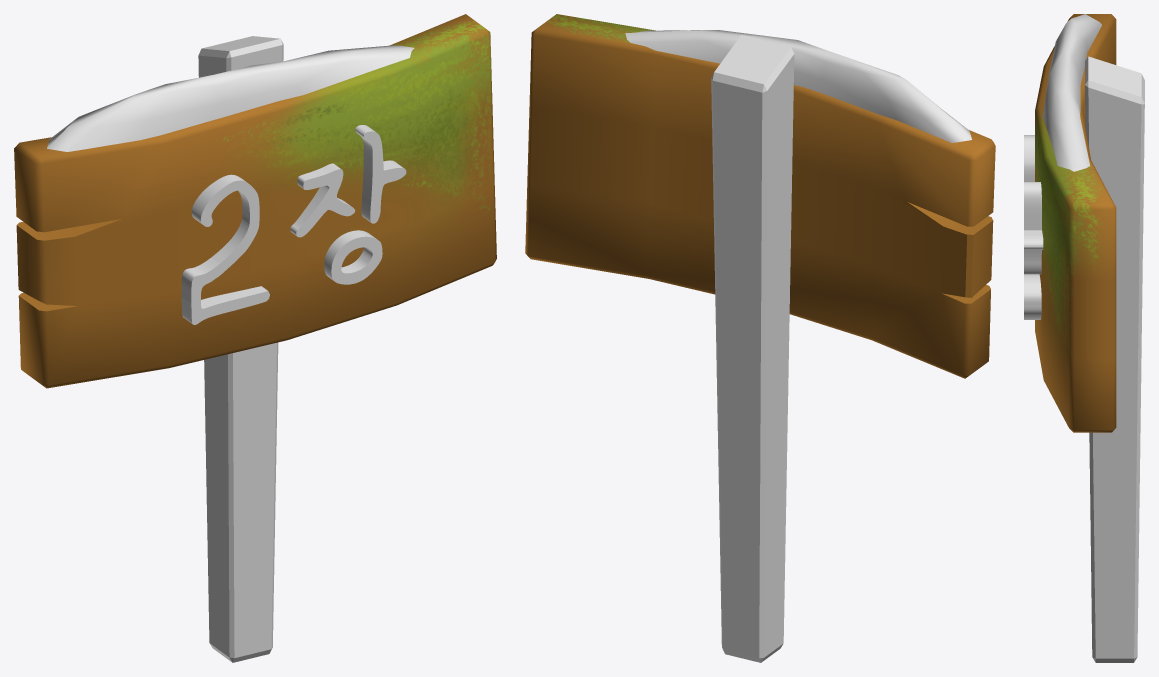
The model's file is 2Panel.FBX.
3 views of the same model, side by side, from view 1: azimuth 30°, elevation 25°; view 2: azimuth 150°, elevation 25°; view 3: azimuth 270°, elevation 25° (orthographic). The views are drawn at different scales.
Visible parts, largest first — view 1: Box050, Box049, Sand, 장001, number001; view 2: Box050, Box049, Sand; view 3: Box049, Box050, Sand, 장001, number001.
Part boxes in pixels (x1=…): Box050: x1=14, y1=14, x2=496, y2=388; Box049: x1=198, y1=36, x2=283, y2=662; Sand: x1=47, y1=45, x2=414, y2=151; 장001: x1=290, y1=125, x2=406, y2=284; number001: x1=181, y1=174, x2=269, y2=324; Box050: x1=525, y1=14, x2=995, y2=378; Box049: x1=711, y1=35, x2=794, y2=662; Sand: x1=625, y1=30, x2=971, y2=142; Box049: x1=1085, y1=56, x2=1144, y2=662; Box050: x1=1035, y1=14, x2=1116, y2=432; Sand: x1=1043, y1=14, x2=1101, y2=171; 장001: x1=1024, y1=182, x2=1043, y2=319; number001: x1=1024, y1=135, x2=1034, y2=181.
Bounding box in the file's own units: 78.87 × 100 × 18.75.
